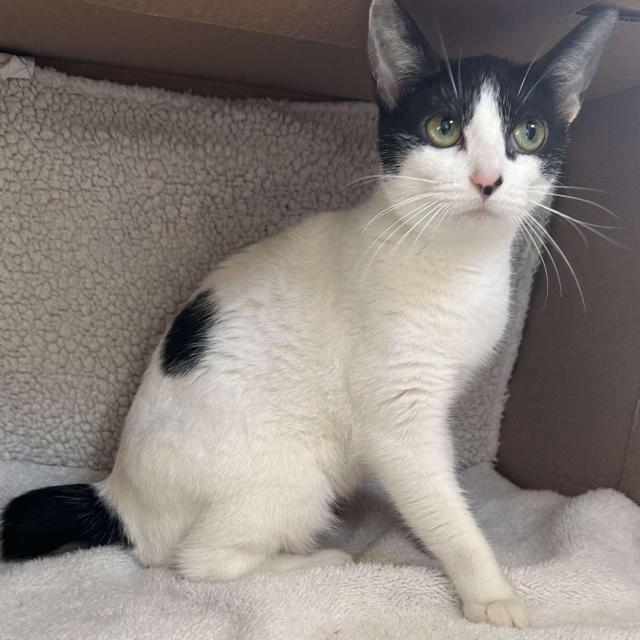American Bobtail: (0, 0, 621, 635)
